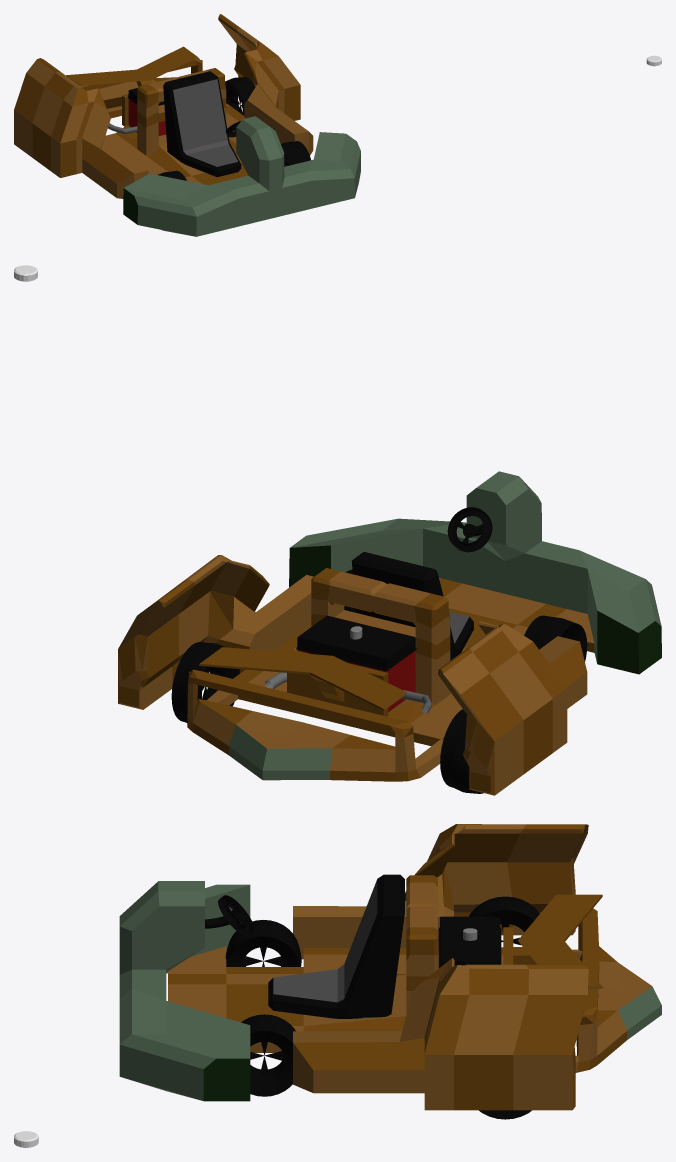
File: KartTartaruga(Colorido).fbx
3 views of the same model, one above another, from view 1: azimuth 30°, elevation 25°; view 2: azimuth 150°, elevation 25°; view 3: azimuth 270°, elevation 25° (orthographic). The views are drawn at different scales.
Visible parts, largest first — view 1: Cube, Circle.001, Circle.004; view 2: Cube, Circle.001, Circle.002, Circle.003, Circle; view 3: Cube, Circle.004, Circle.003, Circle.002, Circle.
Boxes of the visible parts, x1,y1,x2,y2 form: Cube: (14, 14, 360, 236); Circle.001: (225, 77, 255, 115); Circle.004: (281, 141, 310, 166); Cube: (118, 471, 661, 795); Circle.001: (171, 642, 239, 722); Circle.002: (440, 709, 483, 793); Circle.003: (524, 615, 587, 661); Circle: (447, 507, 492, 552); Cube: (119, 824, 661, 1110); Circle.004: (241, 1014, 295, 1096); Circle.003: (225, 920, 301, 966); Circle.002: (469, 896, 539, 945); Circle: (218, 895, 253, 935).
Size of the model in its own units: 3778 by 879 by 2781.
